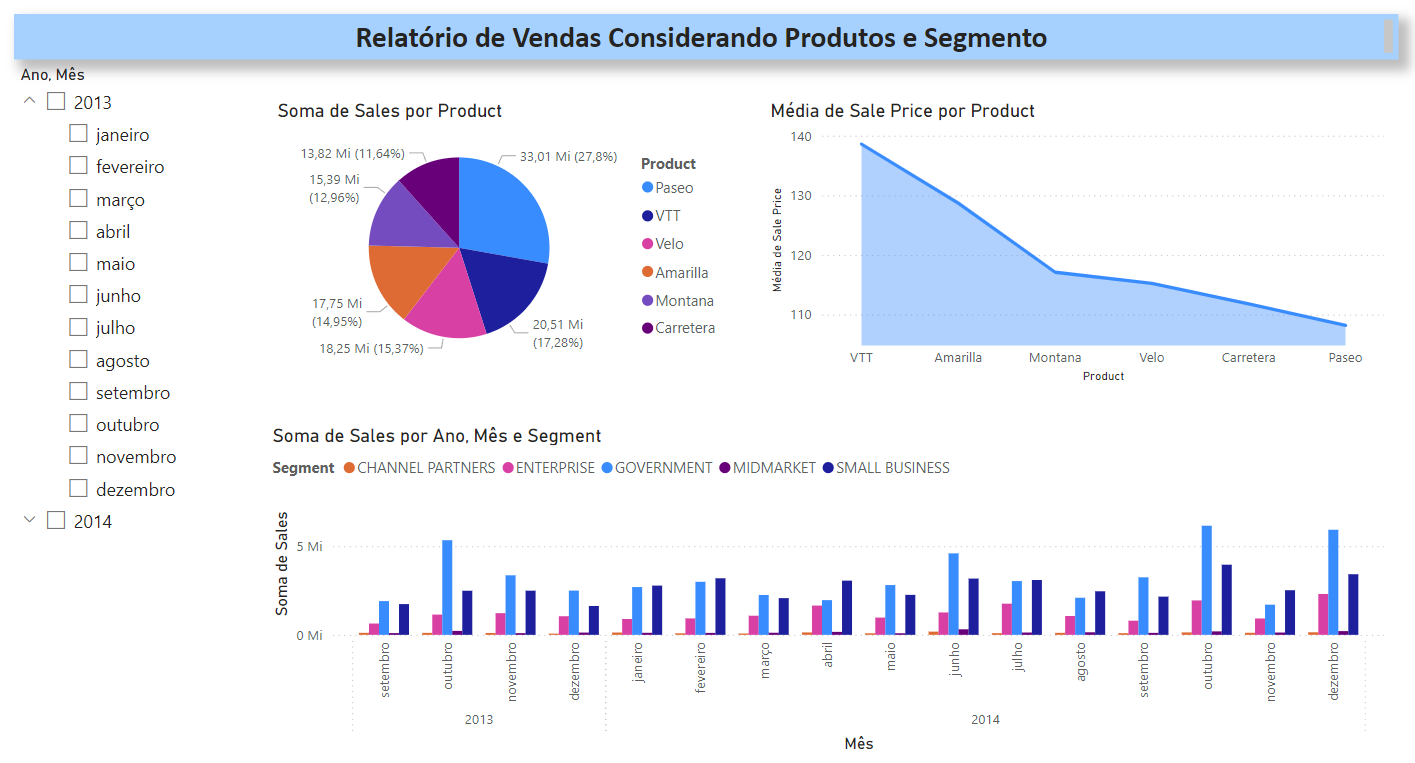

This screenshot's page, from the dashboard's own definition file:
{"tool":"powerbi","page":{"name":"Página 1","canvas":[1280,720],"ordinal":0},"visuals":[{"type":"pieChart","fields":{"Category":["financials.Product"],"Y":["Sum(financials. Sales)"]},"box":[250.2,100.4,413.8,248.9],"z":0},{"type":"areaChart","fields":{"Category":["financials.Product"],"Y":["Avg(financials.Sale Price)"]},"box":[694.3,100.4,562.3,259.8],"z":1000},{"type":"clusteredColumnChart","fields":{"Y":["Sum(financials. Sales)"],"Category":["financials.Date.Variation.Hierarquia de datas.Ano","financials.Date.Variation.Hierarquia de datas.Mês"],"Series":["financials.Segment"]},"box":[246.1,393.2,1010.5,301.1],"z":2000},{"type":"slicer","fields":{"Values":["financials.Date.Variation.Hierarquia de datas.Ano","financials.Date.Variation.Hierarquia de datas.Mês"]},"box":[11,66,226.9,628.3],"z":3000},{"type":"textbox","box":[17.9,24.7,1245.6,41.2],"z":4000}]}

Visuals, with their boxes on the page's 1280x720 design canvas (x1, y1, x2, y2). These are canvas units, not pixel positions in the 1415x763 screenshot, which may show the page scaled, cropped or inside an application window:
pieChart - financials.Product x Sum(financials. Sales): [250, 100, 664, 349]
areaChart - financials.Product x Avg(financials.Sale Price): [694, 100, 1257, 360]
clusteredColumnChart - Sum(financials. Sales) x financials.Date.Variation.Hierarquia de datas.Ano: [246, 393, 1257, 694]
slicer - financials.Date.Variation.Hierarquia de datas.Ano x financials.Date.Variation.Hierarquia de datas.Mês: [11, 66, 238, 694]
textbox: [18, 25, 1264, 66]
